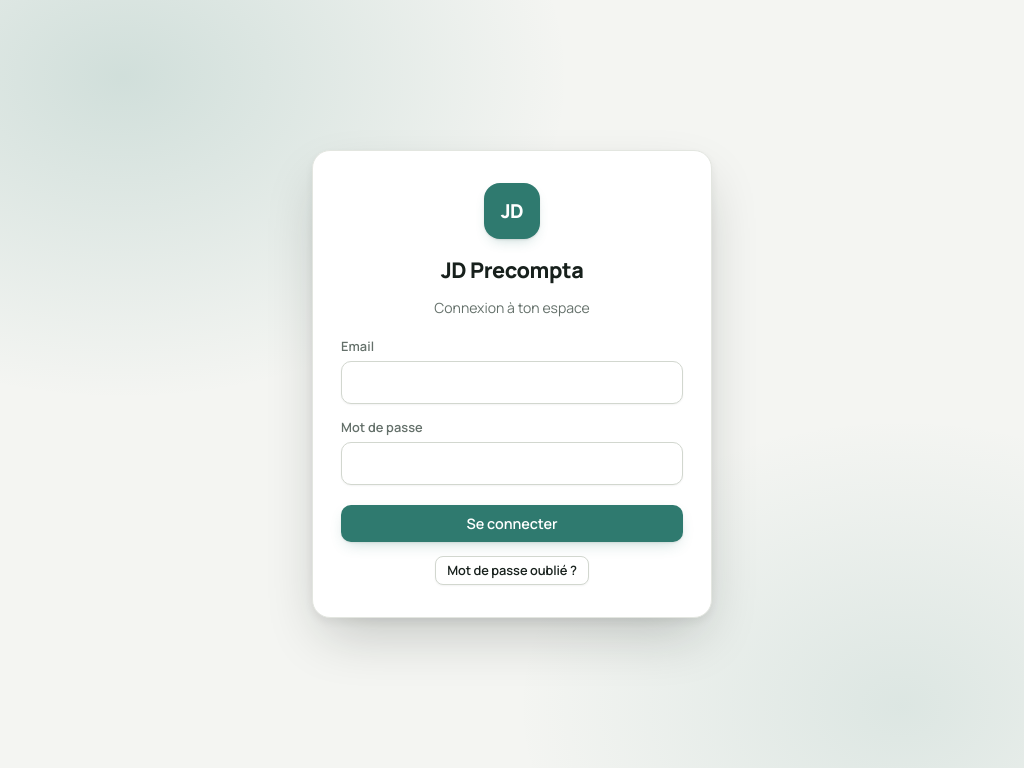
Test: Login — « Mot de passe oublié ? » › une autre erreur se dit avec le message du service — un SMTP mal réglé, par exemple
Type "client@exemple-fictif.fr" into the field labelled "Email" at {"x": 512, "y": 382}, box top-left (341, 361), bottom-right (683, 404)
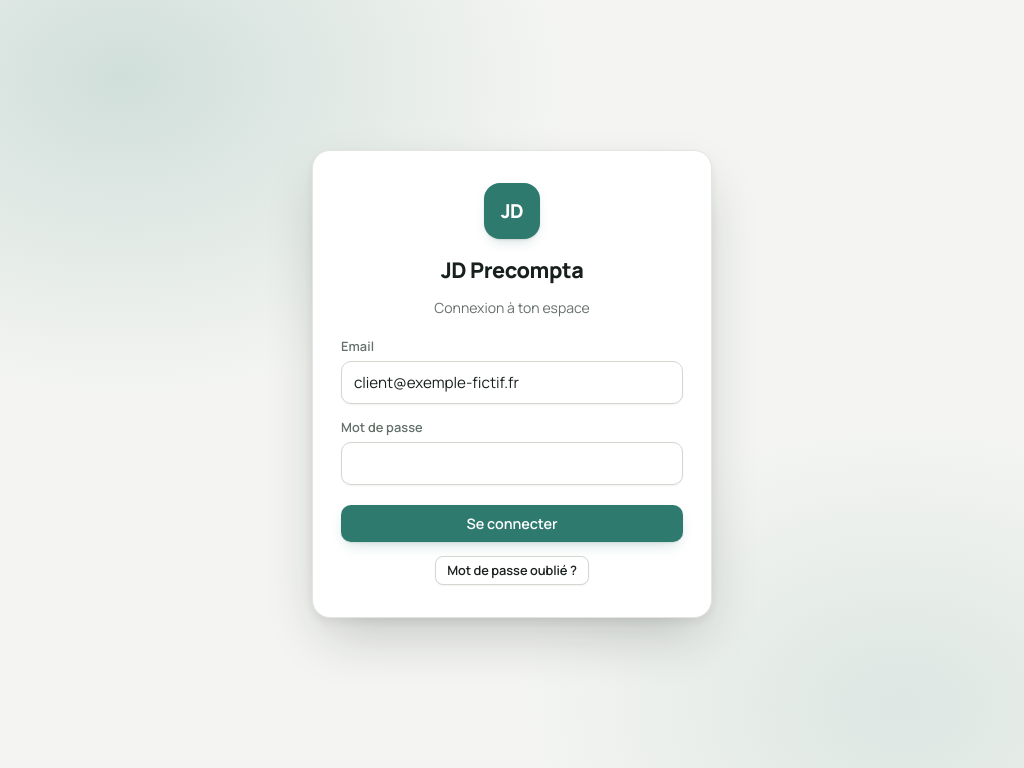
Click the button "Mot de passe oublié ?" at {"x": 512, "y": 571}, box top-left (435, 556), bottom-right (589, 585)
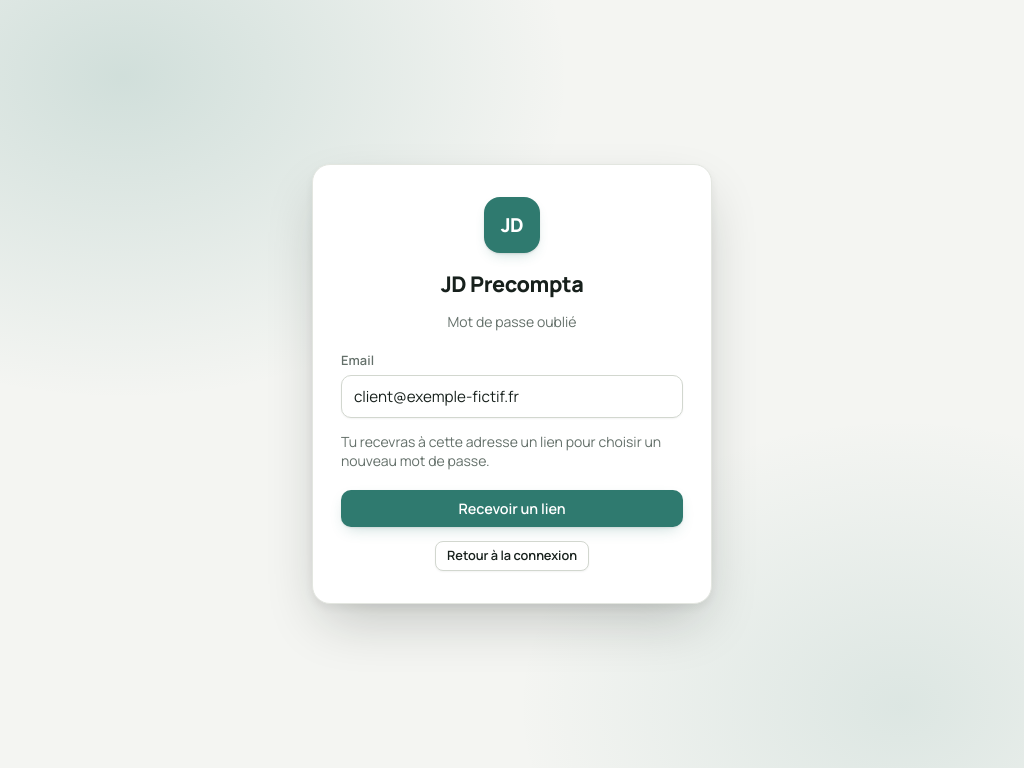
Submit the form, box top-left (341, 351), bottom-right (683, 528)
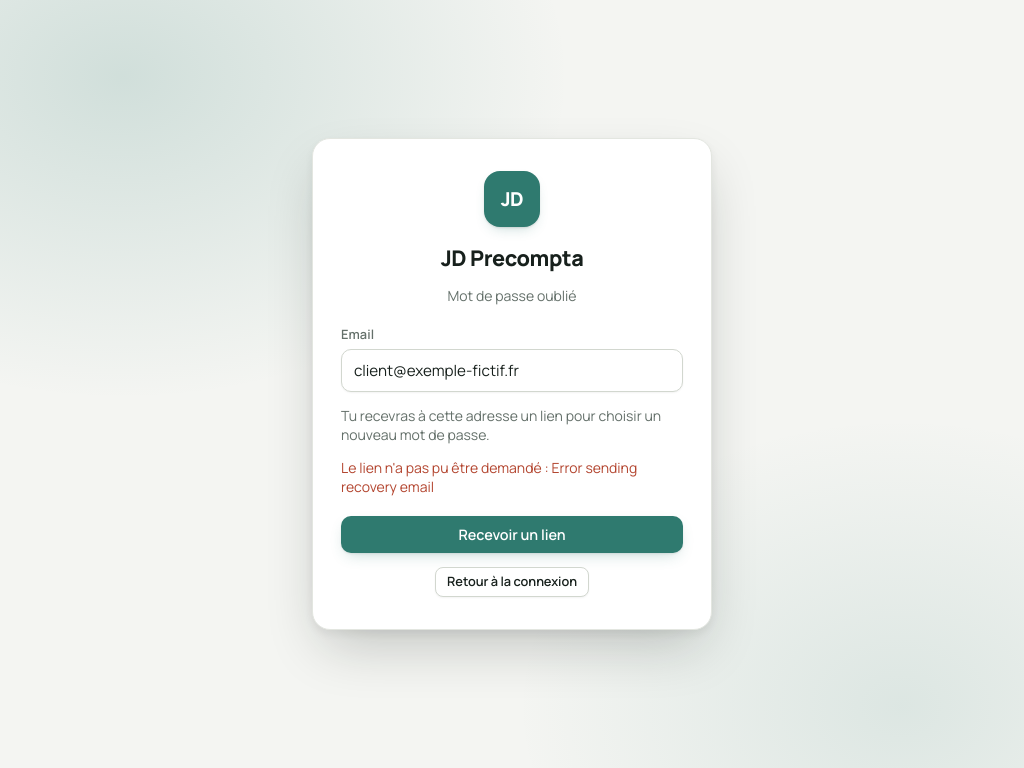
Check: the message reads "Le lien n'a pas pu être demandé : Error sending recovery email", box top-left (341, 458), bottom-right (637, 496)
